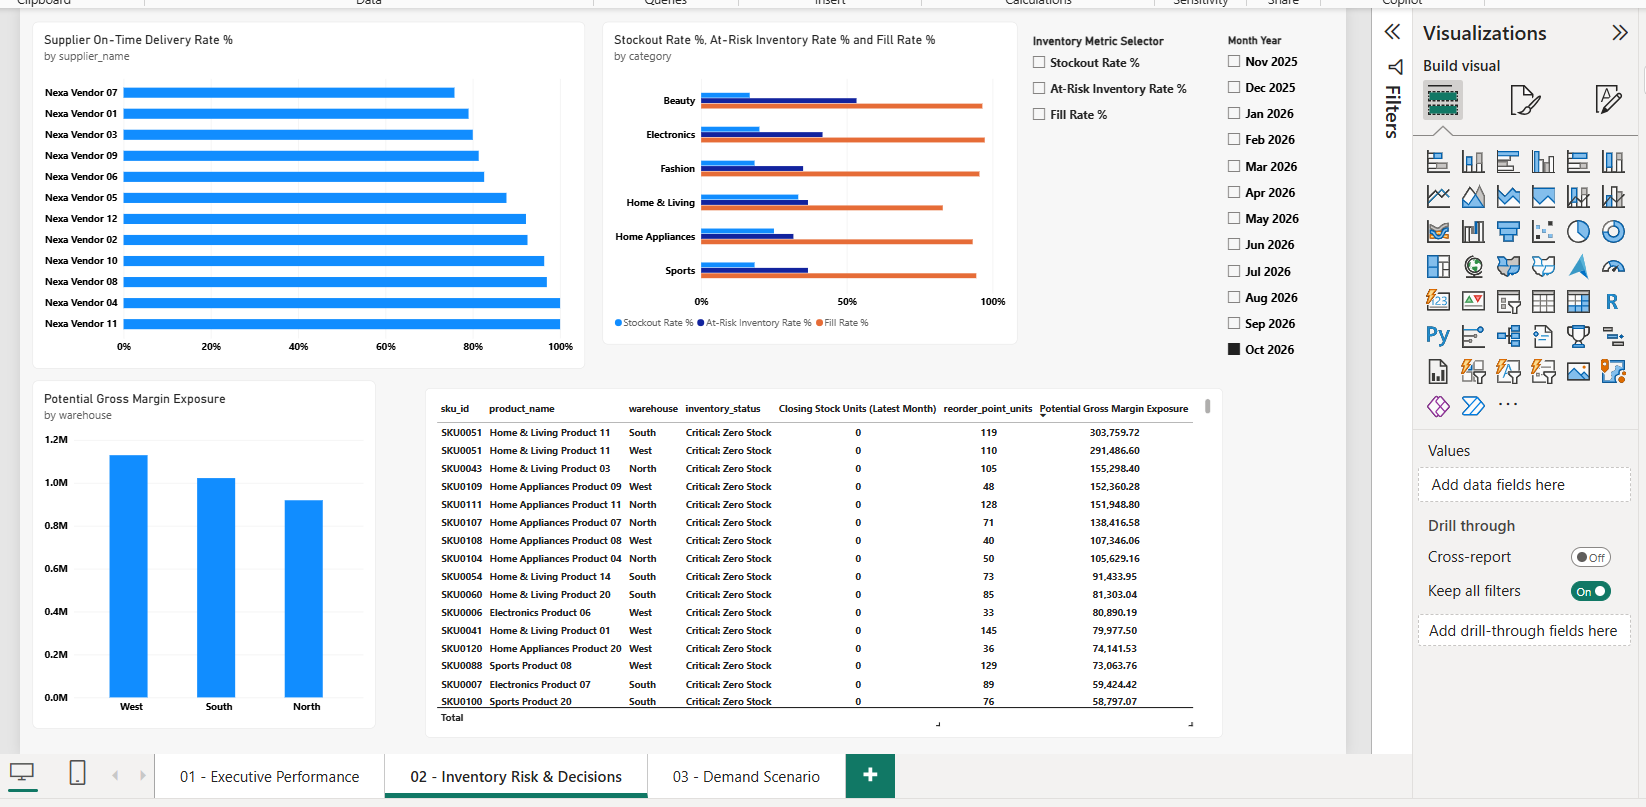

This screenshot's page, from the dashboard's own definition file:
{"tool":"powerbi","page":{"name":"02 - Inventory Risk & Decisions","canvas":[1920,1080],"ordinal":1},"visuals":[{"type":"clusteredBarChart","fields":{"Category":["supply_chain_ai_db suppliers.supplier_name"],"Y":["supply_chain_ai_db inventory.Supplier On-Time Delivery Rate %"]},"box":[18.7,20.6,800,502.1],"z":0},{"type":"slicer","fields":{"Values":["DimDate.Month Year"]},"box":[1741.1,38.8,160.8,484.3],"z":1000},{"type":"clusteredBarChart","fields":{"Category":["supply_chain_ai_db inventory.category","supply_chain_ai_db inventory.product_name","supply_chain_ai_db inventory.warehouse"],"Y":["supply_chain_ai_db inventory.Stockout Rate %","supply_chain_ai_db inventory.At-Risk Inventory Rate %","supply_chain_ai_db inventory.Fill Rate %"]},"box":[842.8,20.3,600.8,466.9],"z":2000},{"type":"clusteredColumnChart","fields":{"Category":["supply_chain_ai_db inventory.warehouse"],"Y":["supply_chain_ai_db inventory.Potential Gross Margin Exposure"]},"box":[18.7,539.6,496.5,504],"z":3000},{"type":"tableEx","fields":{"Values":["supply_chain_ai_db inventory.sku_id","supply_chain_ai_db inventory.product_name","supply_chain_ai_db inventory.warehouse","supply_chain_ai_db inventory.inventory_status","select1","supply_chain_ai_db inventory.Closing Stock Units (Latest Month)","supply_chain_ai_db inventory.reorder_point_units","select","supply_chain_ai_db inventory.Potential Gross Margin Exposure"]},"box":[585.9,550.8,1155.2,506.4],"z":4000},{"type":"slicer","fields":{"Values":["Inventory Metric Selector.Inventory Metric Selector"]},"box":[1459.3,37.9,244.3,139],"z":5000}]}

Visuals, with their boxes on the page's 1920x1080 design canvas (x1, y1, x2, y2). These are canvas units, not pixel positions in the 1646x807 screenshot, which may show the page scaled, cropped or inside an application window:
clusteredBarChart - supply_chain_ai_db suppliers.supplier_name x supply_chain_ai_db inventory.Supplier On-Time Delivery Rate %: (19, 21, 819, 523)
slicer - DimDate.Month Year: (1741, 39, 1902, 523)
clusteredBarChart - supply_chain_ai_db inventory.category x supply_chain_ai_db inventory.product_name: (843, 20, 1444, 487)
clusteredColumnChart - supply_chain_ai_db inventory.warehouse x supply_chain_ai_db inventory.Potential Gross Margin Exposure: (19, 540, 515, 1044)
tableEx - supply_chain_ai_db inventory.sku_id x supply_chain_ai_db inventory.product_name: (586, 551, 1741, 1057)
slicer - Inventory Metric Selector.Inventory Metric Selector: (1459, 38, 1704, 177)
